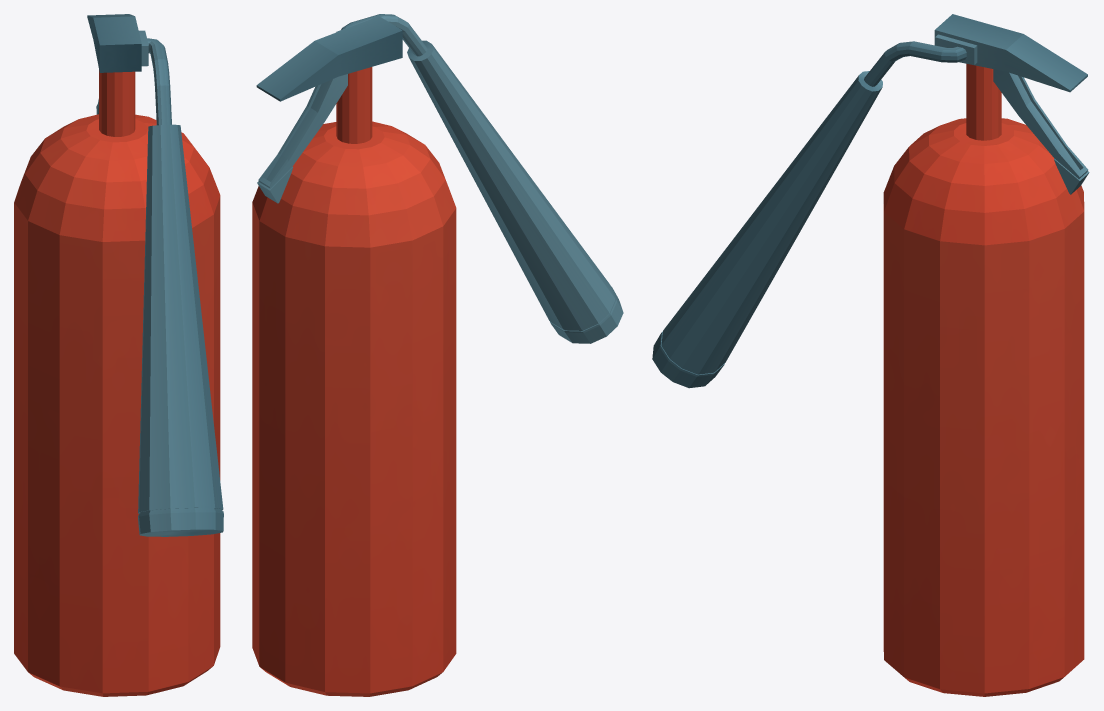
The model's file is fire_extinguisher.glb.
The picture shows the model from 3 angles, left to right: view 1: azimuth 30°, elevation 25°; view 2: azimuth 150°, elevation 25°; view 3: azimuth 270°, elevation 25°; orthographic projection.
Parts seen in each view (by area): view 1: falsk, nozzle, top; view 2: falsk, nozzle, top, handle; view 3: falsk, nozzle, top, handle.
Boxes of the visible parts, left/top/right/bottom form: falsk: left=14, top=70, right=220, bottom=696; nozzle: left=138, top=38, right=223, bottom=536; top: left=87, top=14, right=148, bottom=72; falsk: left=252, top=67, right=456, bottom=696; nozzle: left=341, top=14, right=623, bottom=343; top: left=256, top=16, right=402, bottom=101; handle: left=257, top=74, right=347, bottom=203; falsk: left=883, top=63, right=1084, bottom=696; nozzle: left=652, top=41, right=966, bottom=388; top: left=934, top=14, right=1087, bottom=92; handle: left=993, top=69, right=1089, bottom=194.
Size of the model in its own units: 0.1831 by 0.5228 by 0.3307.
Materials: 1 (1 with a texture image).
